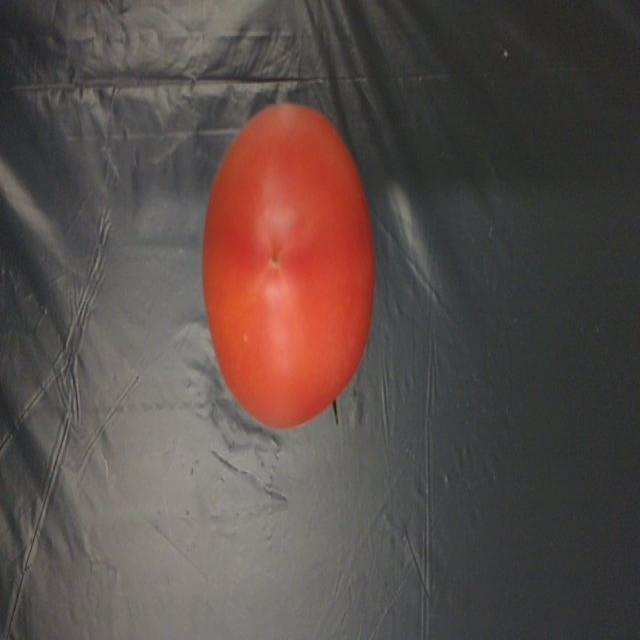kirmizi: (173, 99, 388, 455)
